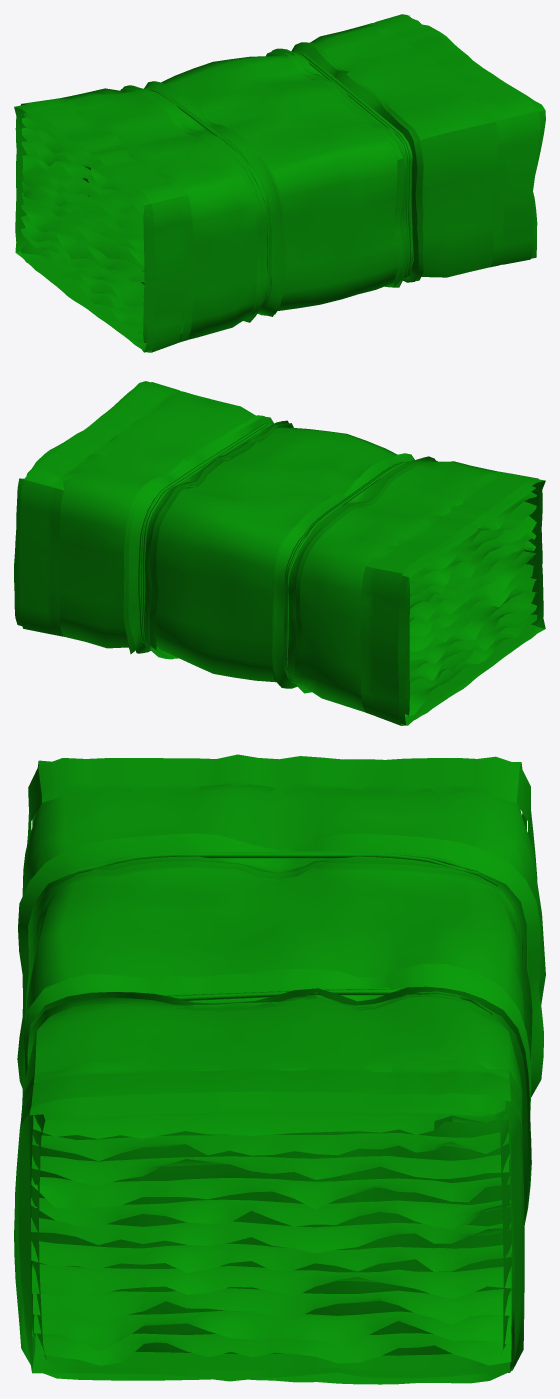
Rendered from SM_Haystack.fbx.
The picture shows the model from 3 angles, top to bottom: view 1: azimuth 30°, elevation 25°; view 2: azimuth 150°, elevation 25°; view 3: azimuth 270°, elevation 25°; orthographic projection. The views are drawn at different scales.
Visible parts, largest first — view 1: SM_Haystack; view 2: SM_Haystack; view 3: SM_Haystack.
Part boxes in pixels (x1=…): SM_Haystack: x1=14, y1=14, x2=545, y2=352; SM_Haystack: x1=14, y1=381, x2=545, y2=725; SM_Haystack: x1=14, y1=754, x2=545, y2=1384.
Bounding box in the file's own units: 107 × 67.71 × 43.29.
